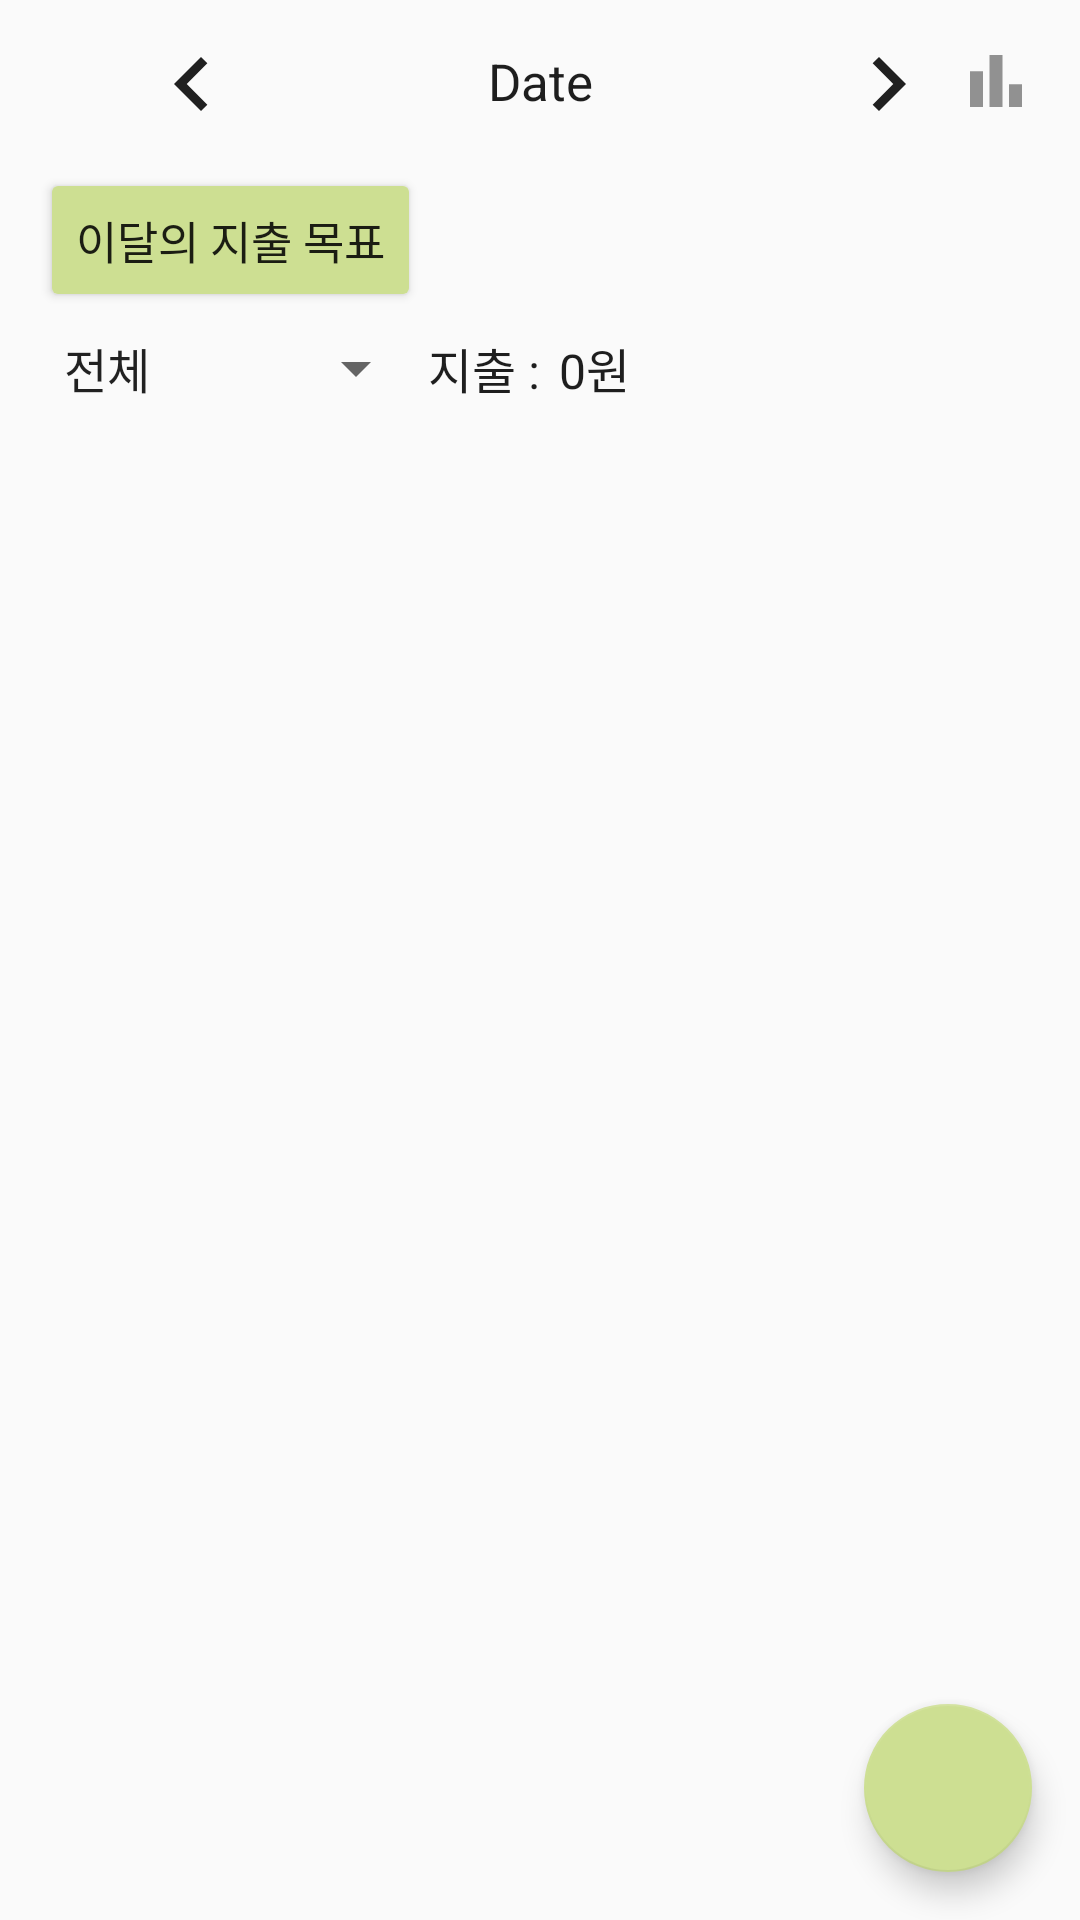

Point at icon controls on the screen. Image size 1080px x 1920px, points as (x,y).
bar chart: (996,81)
keyboard arrow left: (190,84)
keyboard arrow right: (889,84)
